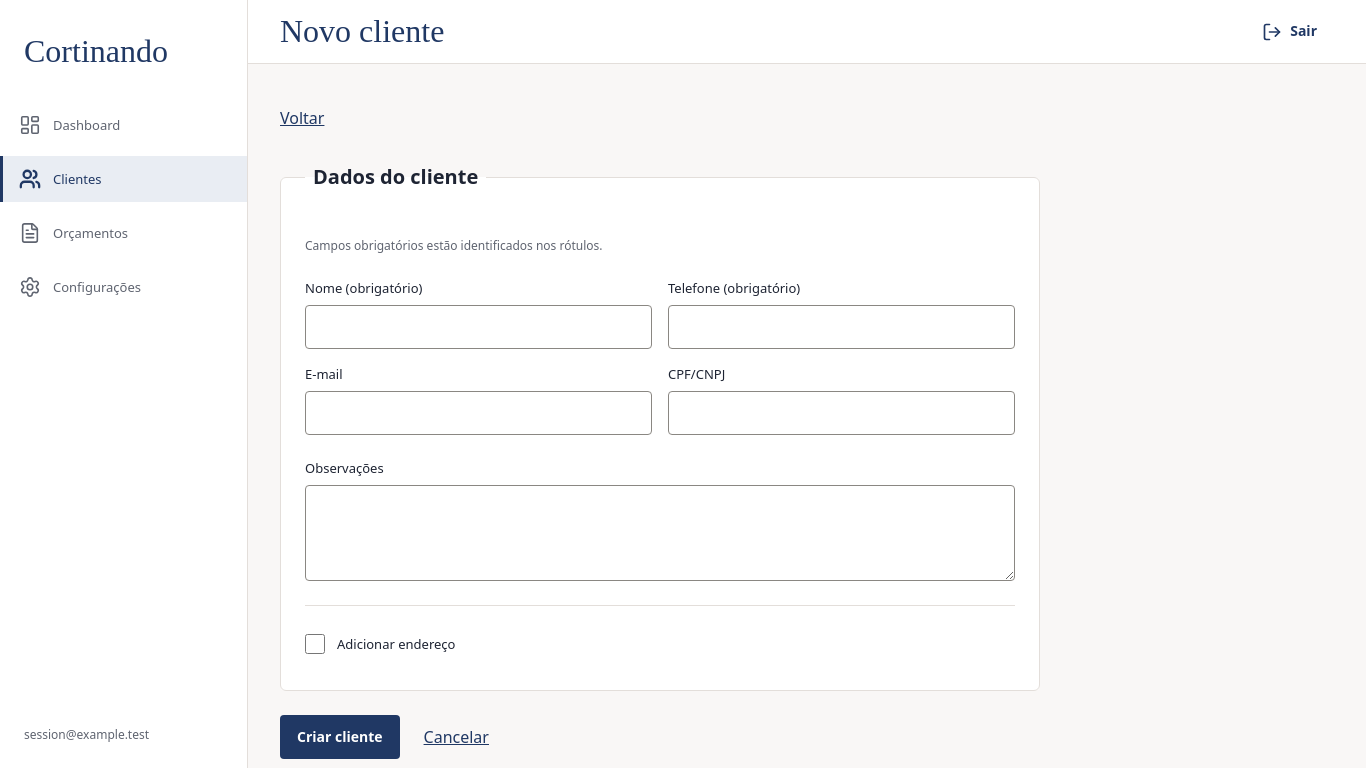
it: preserves input and shows safe backend failure 400
The width and height of the screenshot is (1366, 768).
Step 1. Type "Ana" into the field labelled "Nome (obrigatório)" → (478, 327), box [305,305,652,349]
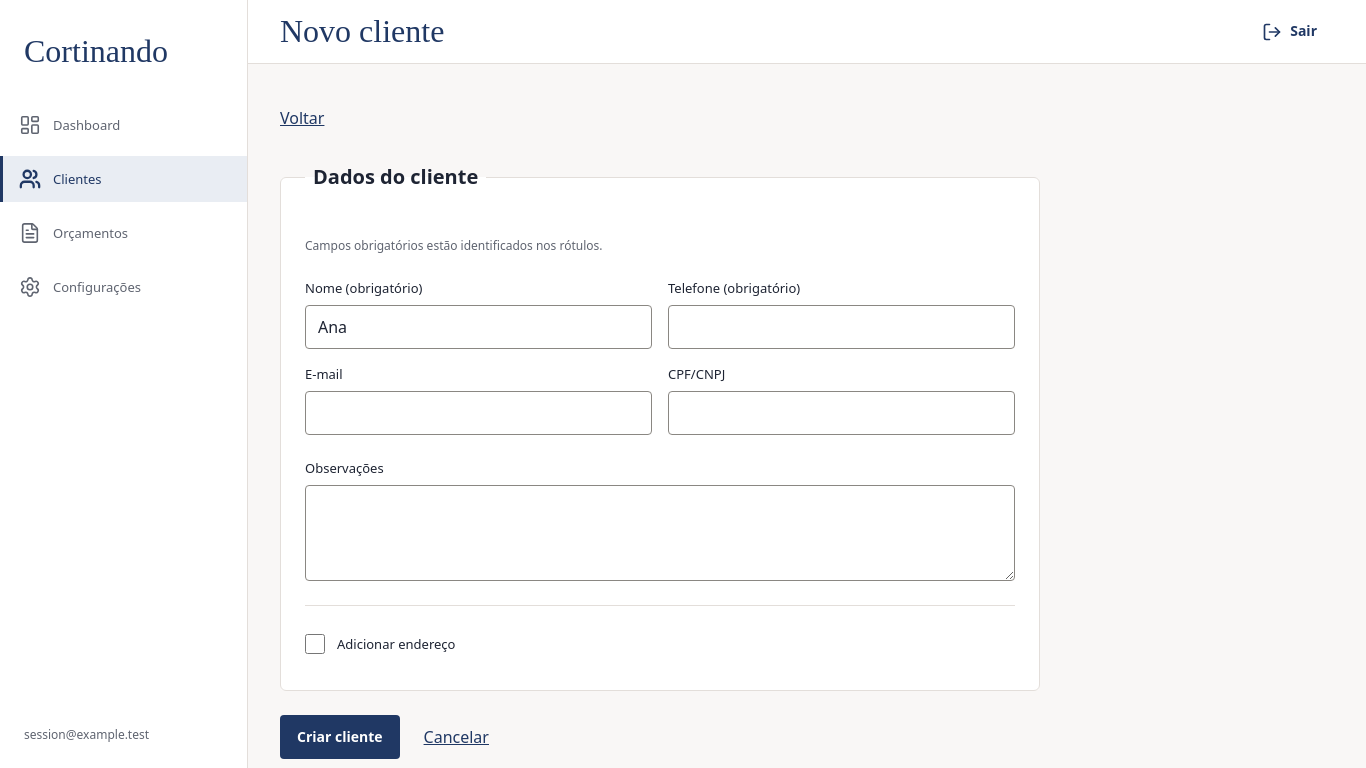
Step 2. Type "11912345678" into the field labelled "Telefone (obrigatório)" → (842, 327), box [668,305,1015,349]
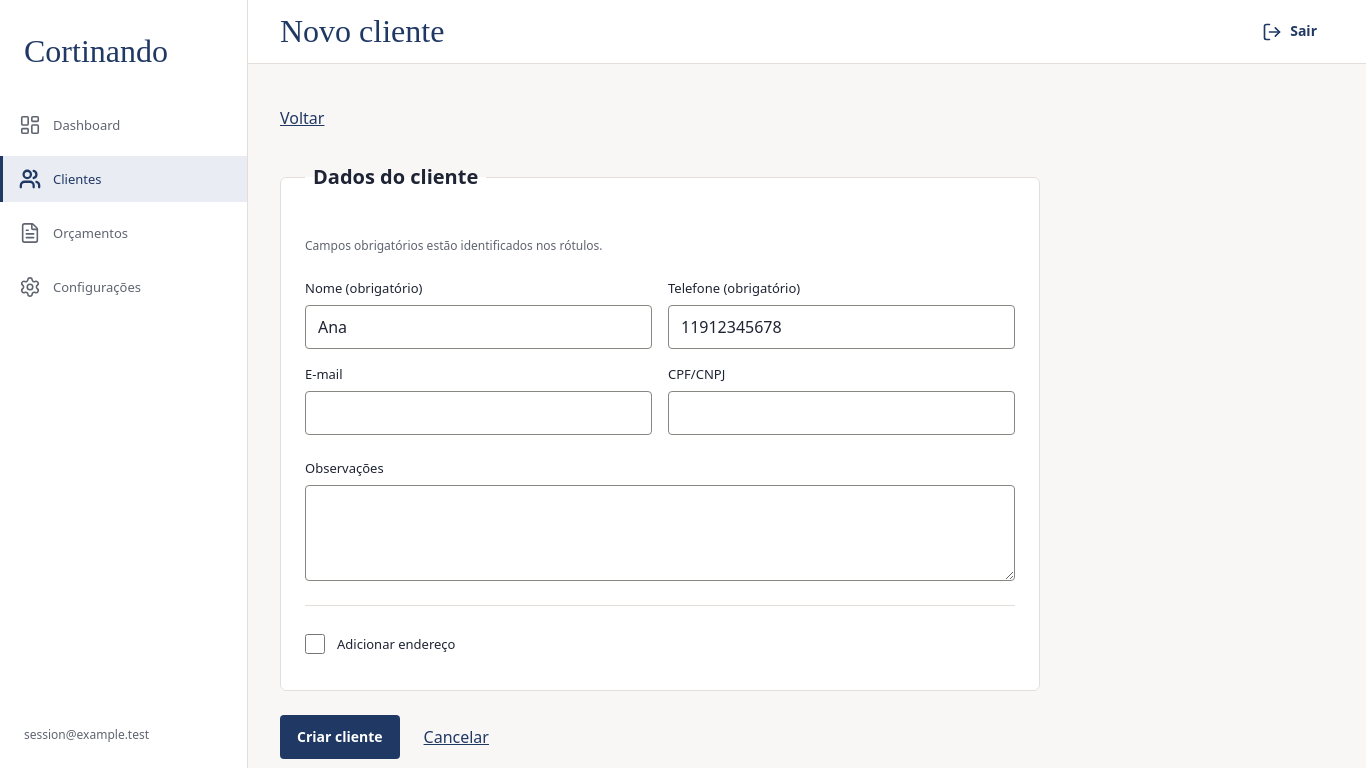
Step 3. Click the button "Criar cliente" → (340, 737), box [280,715,400,759]
(page scrolled)
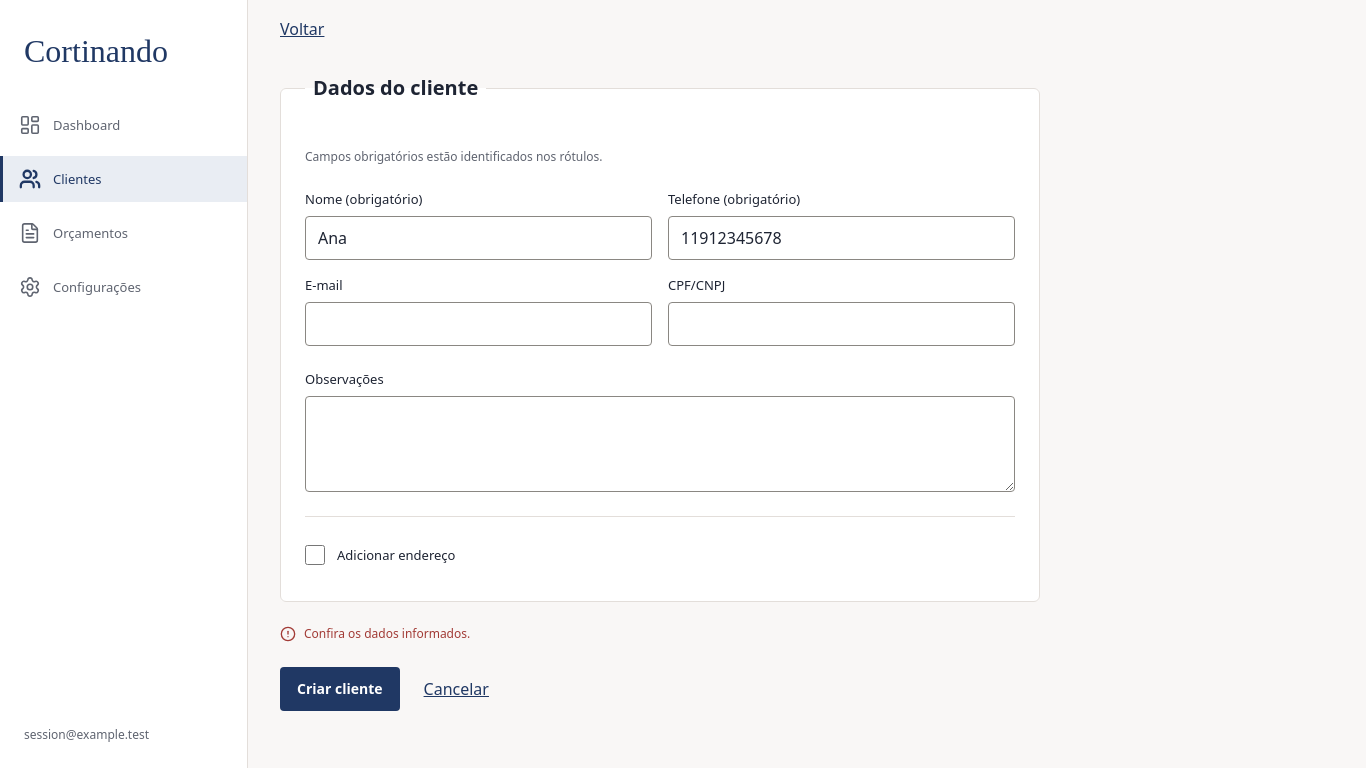
Expected: the button "Criar cliente" is enabled, [280,667,400,711]
Now the message "Confira os dados informados." is shown, box [280,625,470,642]
